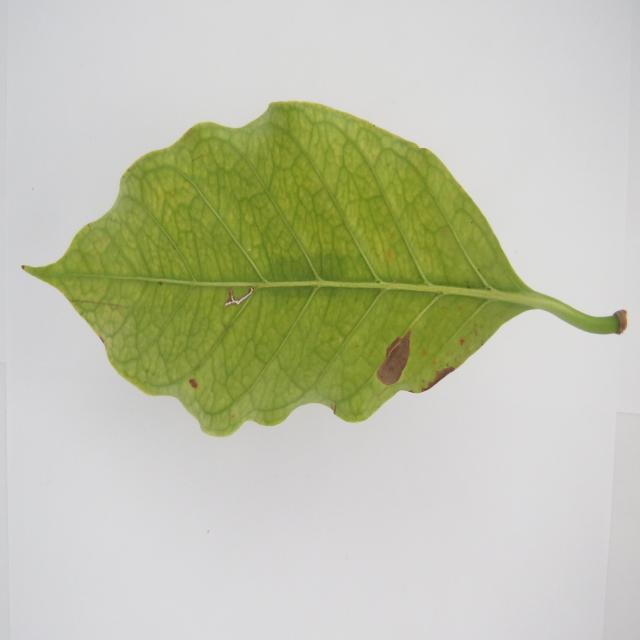DeficienciaNutricional-Calcio: (24, 102, 626, 437)
